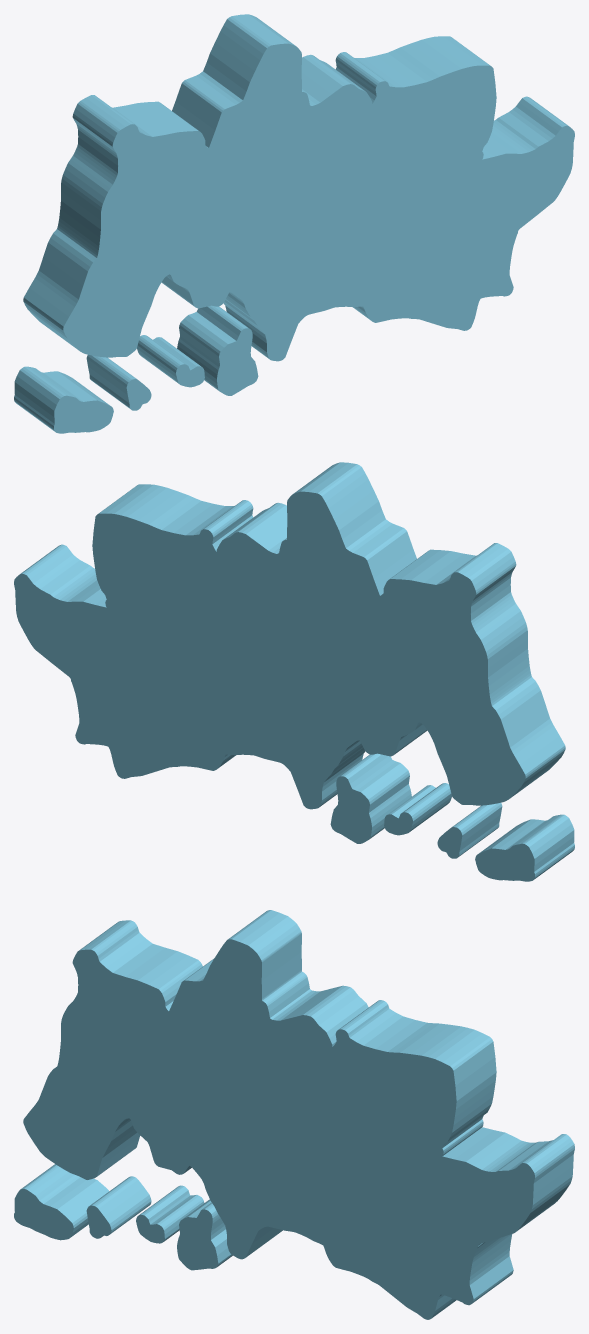
Rendered from tinker.obj.
The picture shows the model from 3 angles, top to bottom: view 1: azimuth 30°, elevation 25°; view 2: azimuth 150°, elevation 25°; view 3: azimuth 330°, elevation 25°; orthographic projection.
Visible parts, largest first — view 1: obj_0; view 2: obj_0; view 3: obj_0.
Boxes of the visible parts, x1,y1,x2,y2 form: obj_0: (14, 14, 574, 433); obj_0: (14, 462, 574, 881); obj_0: (14, 910, 574, 1319).
Bounding box in the file's own units: 75.24 × 47.31 × 10.
